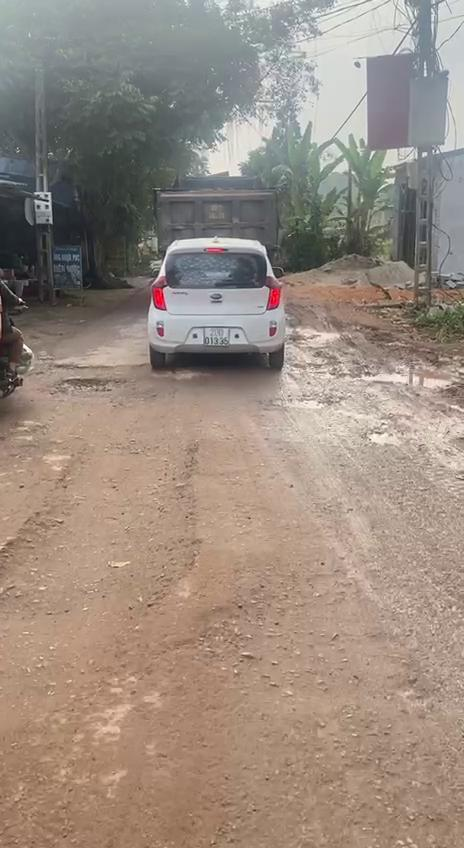pothole: (2, 432, 210, 618), (268, 389, 336, 414), (52, 374, 120, 398), (364, 428, 404, 446)
